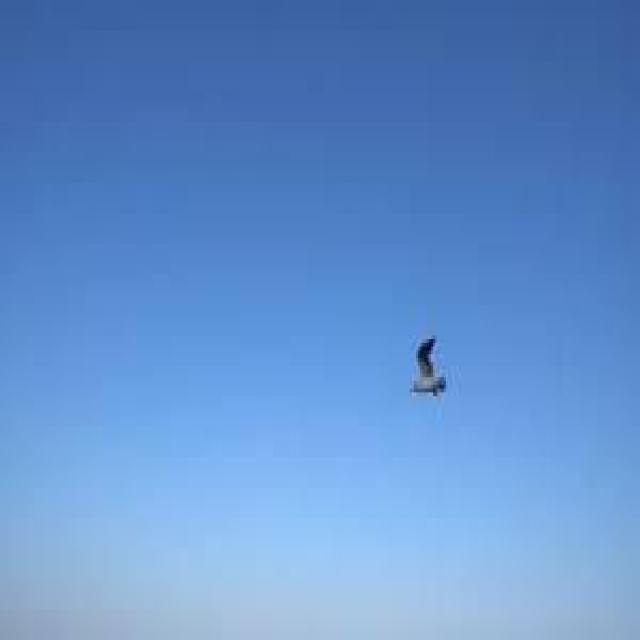bird: (405, 328, 450, 400)
